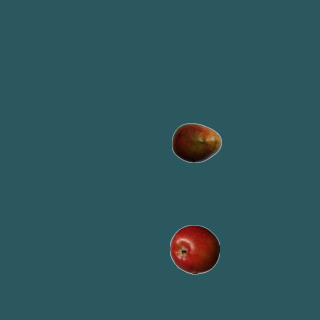Apple Braeburn: (169, 224, 219, 274)
Mango Red: (171, 117, 221, 167)
